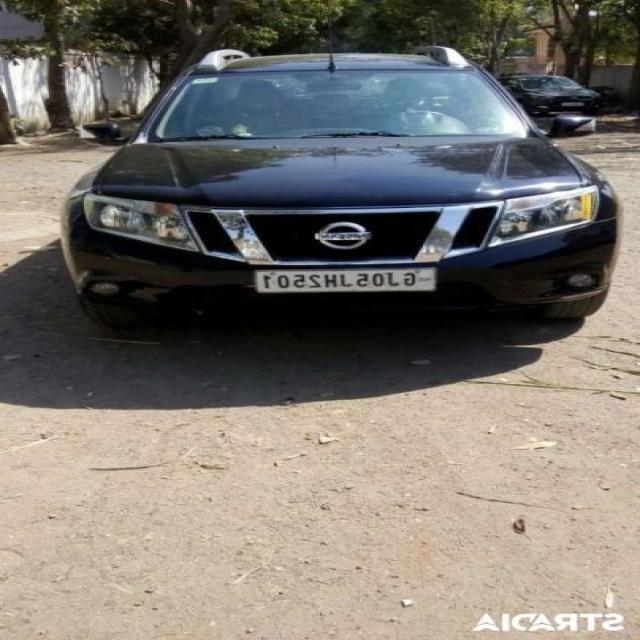number-plate: (235, 266, 446, 297)
